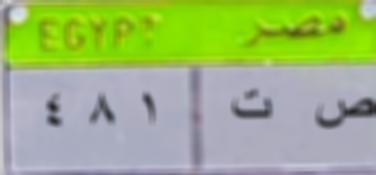1: (133, 90, 173, 133)
4: (32, 90, 70, 132)
8: (80, 87, 120, 134)
saad: (310, 92, 376, 138)
taa: (224, 86, 278, 129)
